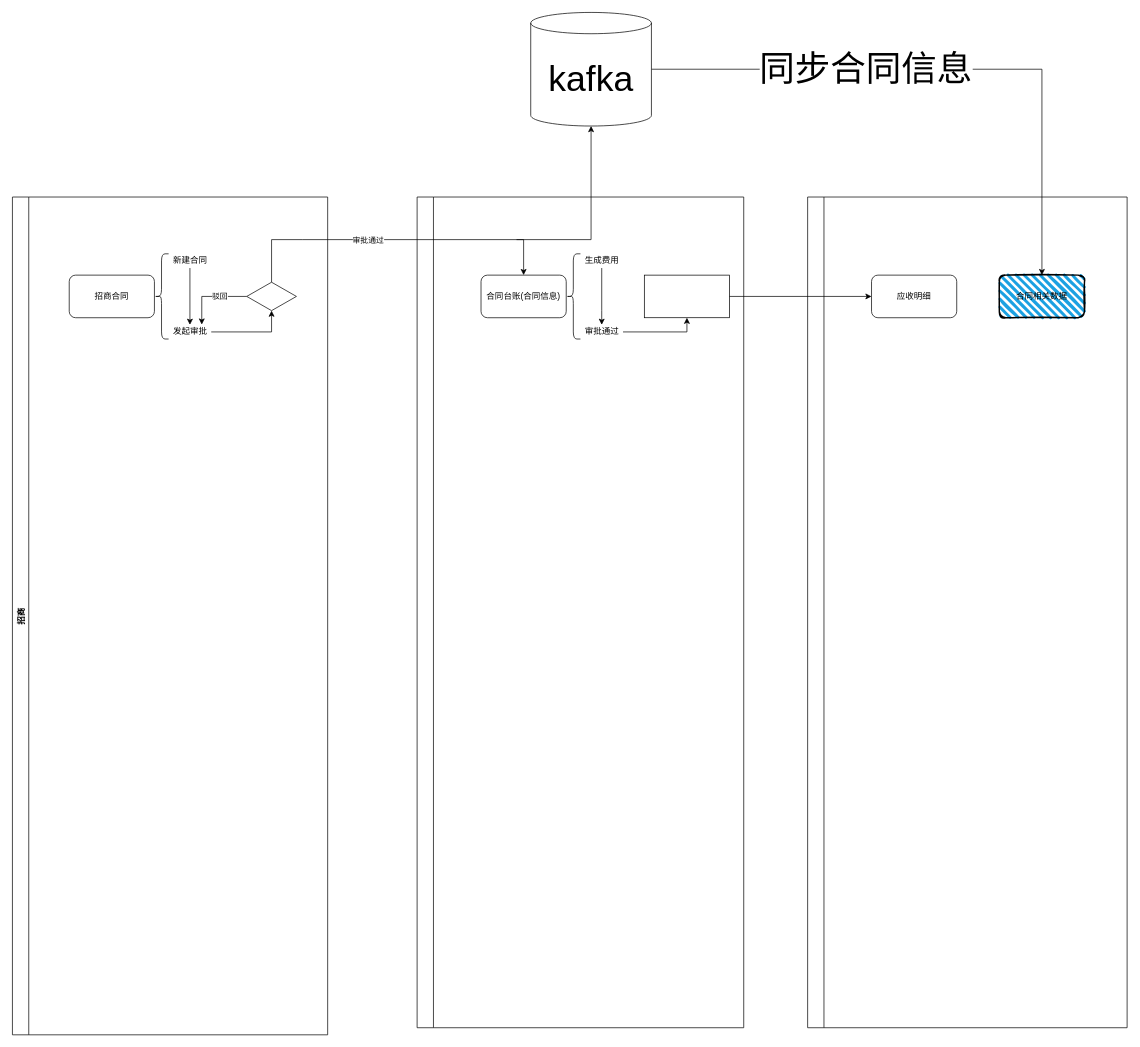
The diagram is 1140 pixels wide and 1047 high, and some of its shapes have lost their labels. Each missing label, with the box of its shape:
推送应收: (644, 274, 730, 318)
营运: (416, 196, 744, 1028)
财务: (807, 196, 1127, 1028)
